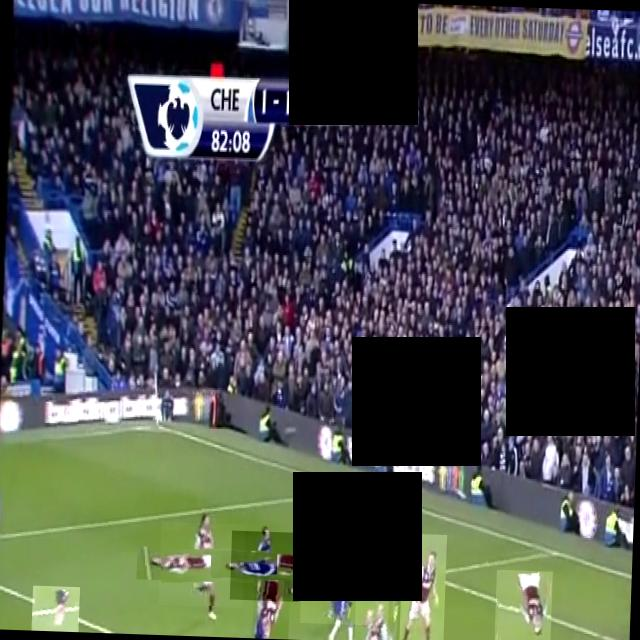referee: (31, 585, 80, 632)
soccer-player: (300, 536, 390, 626), (158, 522, 245, 608), (398, 533, 446, 640), (230, 530, 300, 601), (493, 569, 552, 640), (252, 577, 290, 639), (353, 593, 397, 640)
